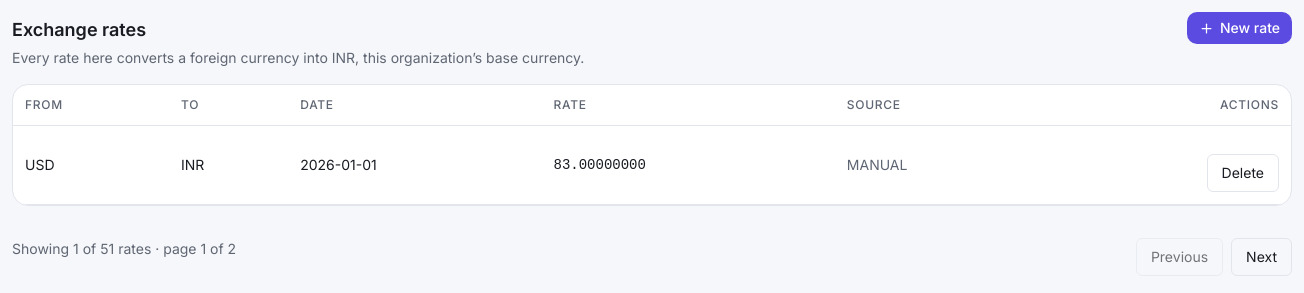
FxRatesPage › reaches rates beyond the first page (page 2 is requested from the server)
The image size is (1304, 293).
Expected: the text "83.00000000" is shown, 542,125 -> 835,204
Click the button "Next" at (1262, 256), box 1231,238 -> 1292,276
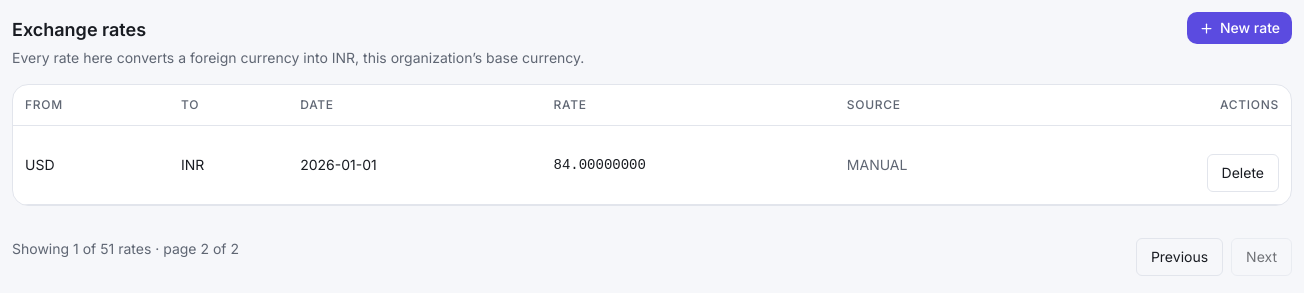
Now the text "84.00000000" is shown, box 542,125 -> 835,204
